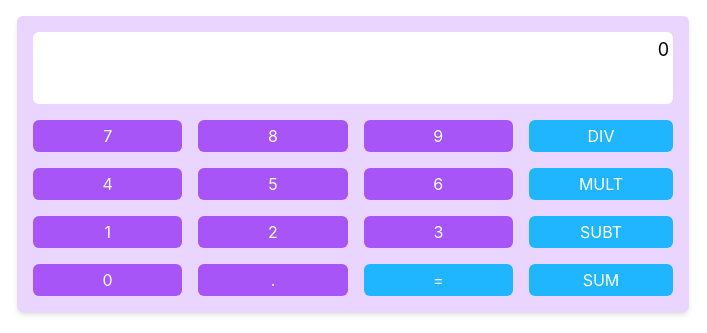
Test: Calculator › should subtract two numbers
What coordinates should you click on to do the following:
click the button "8"
I would click on:
 (273, 136)
Its box is [198,120,348,152].
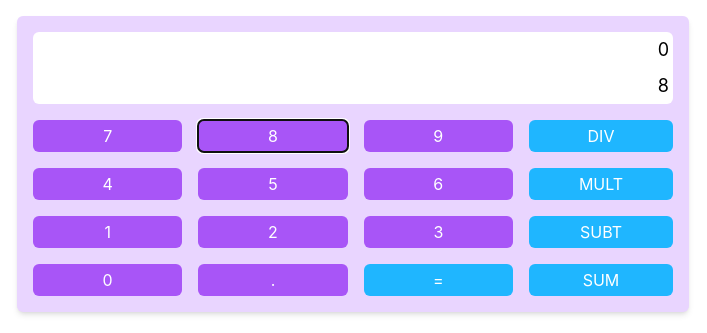
What coordinates should you click on to do the following:
click the button "SUBT"
I would click on:
 (601, 232)
Its box is [529,216,673,248].
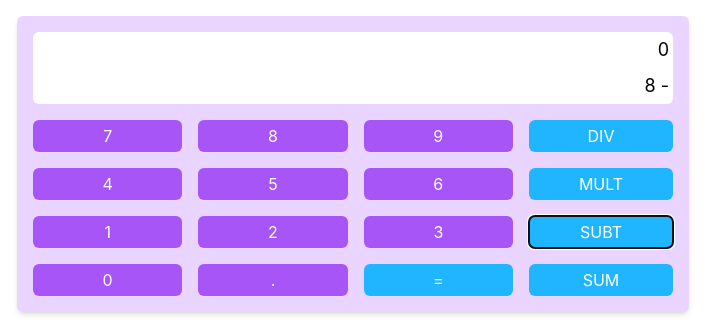
What coordinates should you click on to do the following:
click the button "7"
I would click on:
 (108, 136)
Its box is [33,120,182,152].
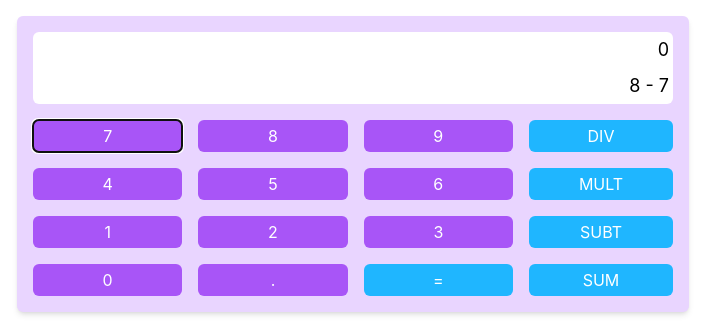
Now the 2nd field holds "8 - 7", box [33,68,673,104]
What coordinates should you click on to do the following:
click the button "="
I would click on:
 (438, 280)
Its box is [364,264,513,296].
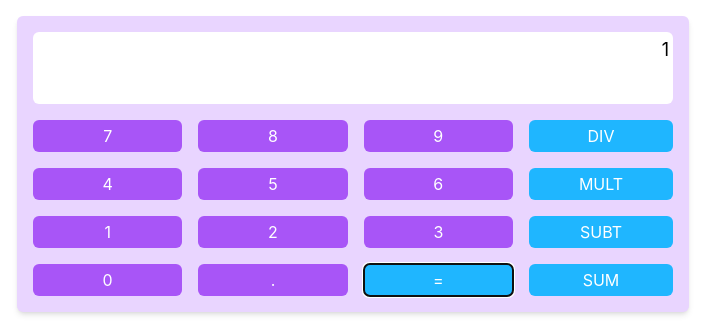
Now the 1st field holds "1", box [33,32,673,68]
Now the 2nd field is empty, box [33,68,673,104]
